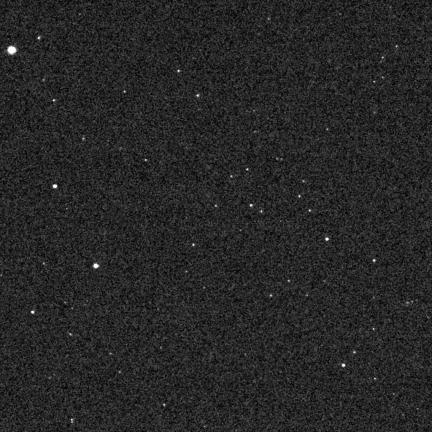blob: (8, 46, 16, 54), (93, 264, 99, 268), (31, 311, 36, 315), (177, 69, 181, 73), (53, 184, 57, 188), (250, 204, 254, 208), (192, 244, 196, 247), (325, 238, 329, 241), (373, 259, 376, 263), (342, 364, 345, 367)
